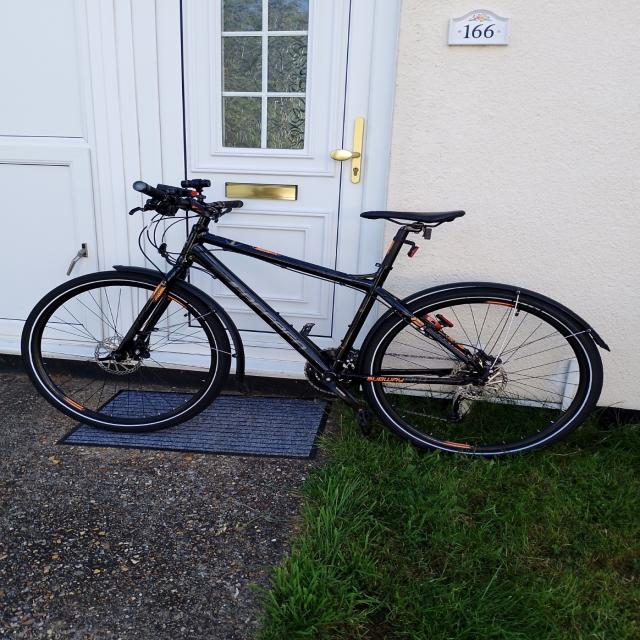bicycle: (20, 178, 610, 456)
